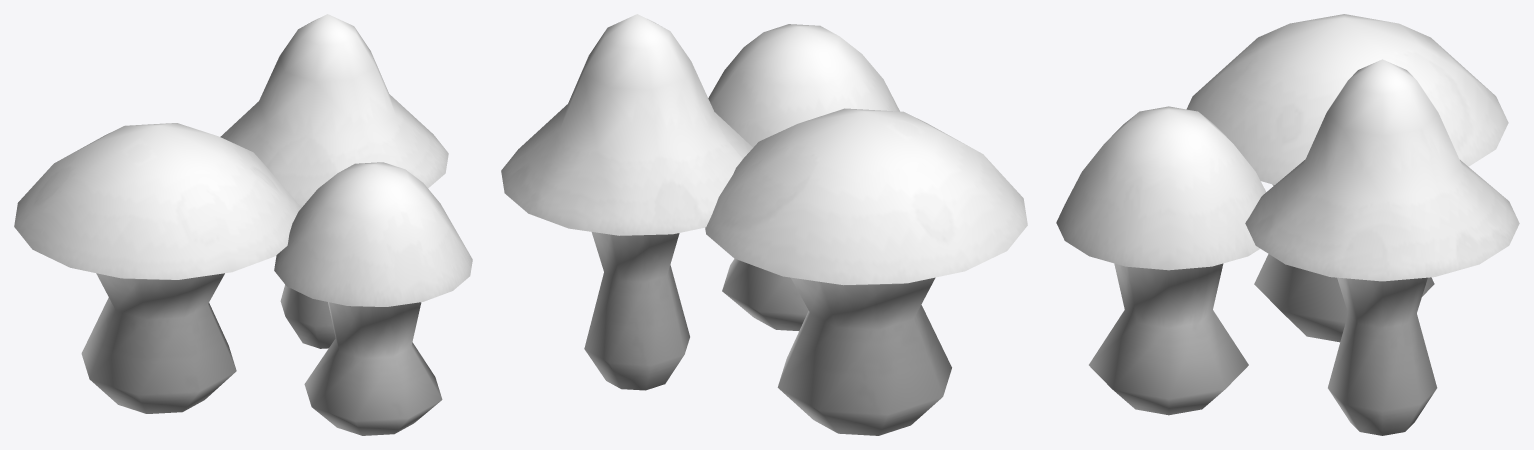
Rendered from FloorDeco1B-001_02_21_7453.fbx.
3 views of the same model, side by side, from view 1: azimuth 30°, elevation 25°; view 2: azimuth 150°, elevation 25°; view 3: azimuth 270°, elevation 25° (orthographic). The views are drawn at different scales.
Visible parts, largest first — view 1: ShroomPile; view 2: ShroomPile; view 3: ShroomPile.
Boxes of the visible parts, <box> form: ShroomPile: <box>14,14,472,435</box>; ShroomPile: <box>501,14,1027,435</box>; ShroomPile: <box>1056,14,1519,435</box>.
Bounding box in the file's own units: 1.23 × 0.9062 × 1.05.
